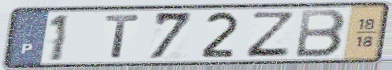1: (47, 13, 71, 62)
2: (200, 11, 240, 59)
7: (147, 11, 196, 61)
B: (293, 8, 348, 59)
T: (103, 14, 143, 60)
Z: (243, 11, 297, 59)
